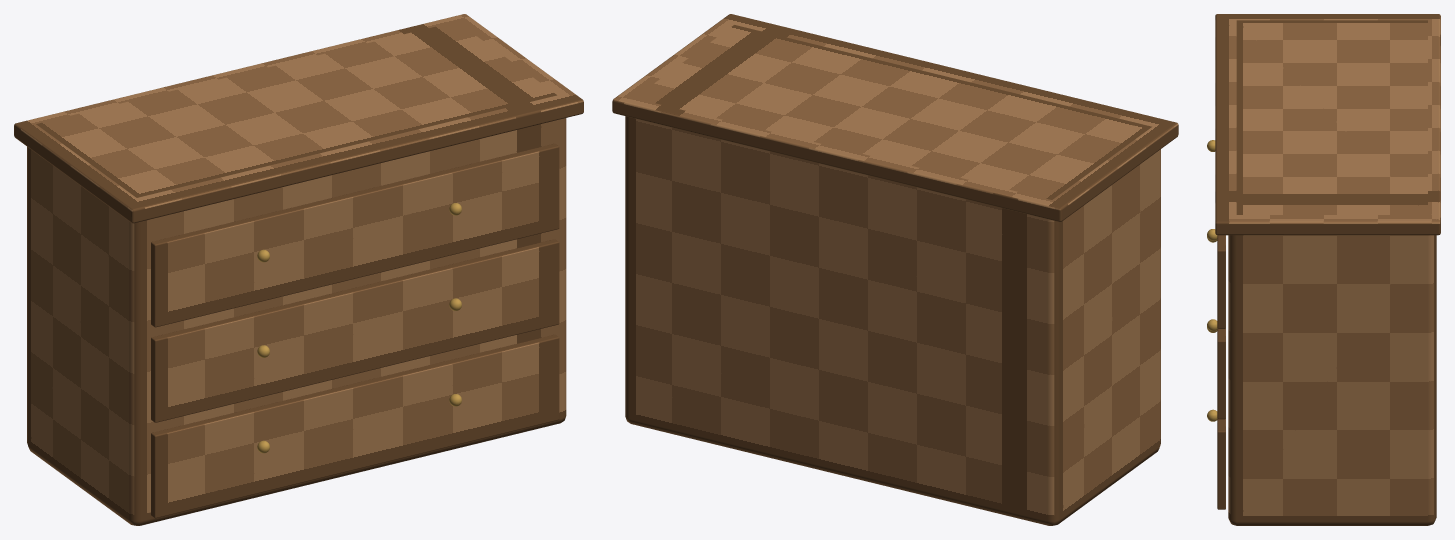
Rendered from dresser.glb.
The picture shows the model from 3 angles, left to right: view 1: azimuth 30°, elevation 25°; view 2: azimuth 150°, elevation 25°; view 3: azimuth 270°, elevation 25°; orthographic projection. The views are drawn at different scales.
Visible parts, largest first — view 1: dyn_wood_variant, dresser; view 2: dyn_wood_variant; view 3: dyn_wood_variant, dresser.
Boxes of the visible parts, x1,y1,x2,y2 form: dyn_wood_variant: (14,14,583,525); dresser: (257,203,461,453); dyn_wood_variant: (612,14,1178,525); dyn_wood_variant: (1215,14,1440,525); dresser: (1207,140,1217,421).
Size of the model in its own units: 1.14 by 0.7902 by 0.539.
2 materials, 2 textured.
